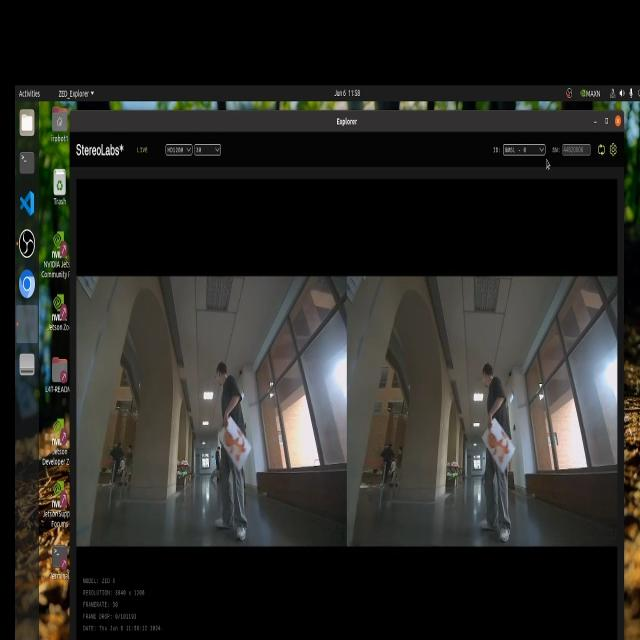red: (486, 431, 518, 474), (221, 423, 247, 470)
